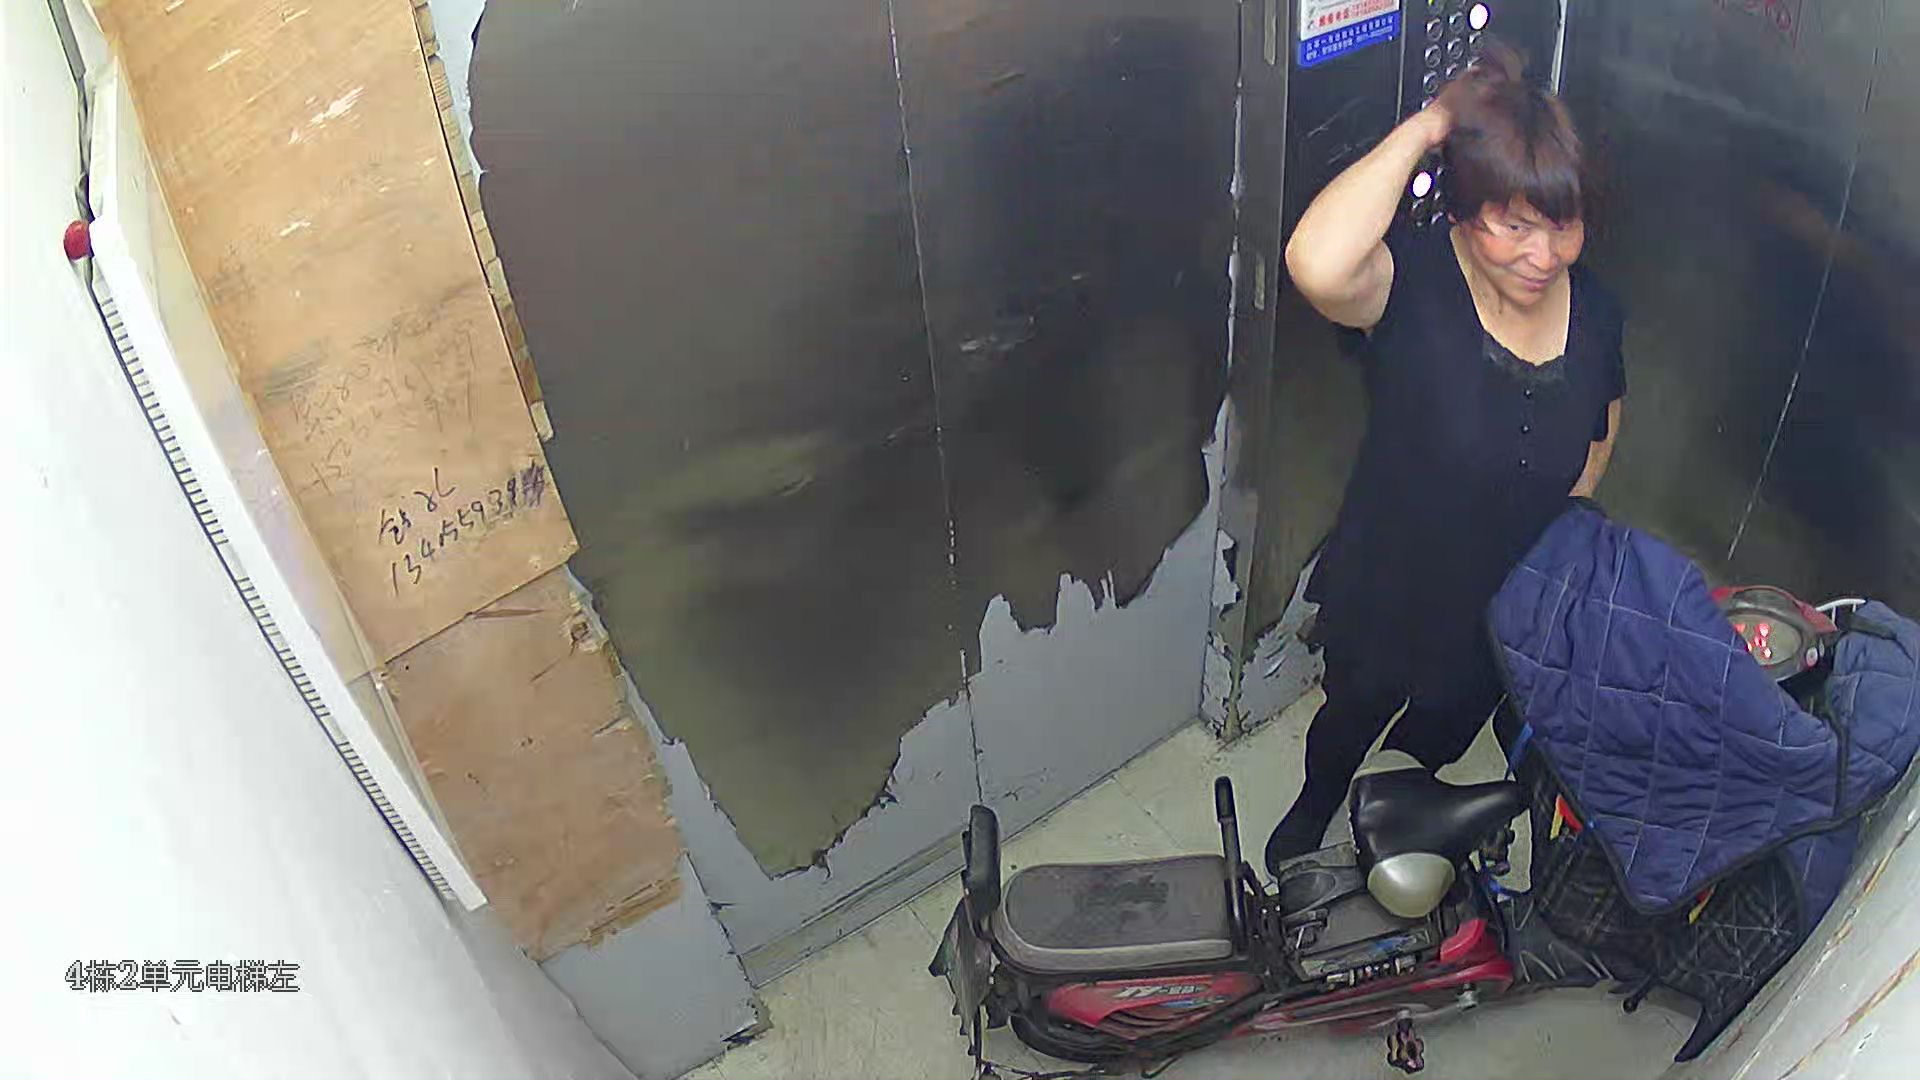Electric-bicycle: (963, 502, 1908, 1080)
